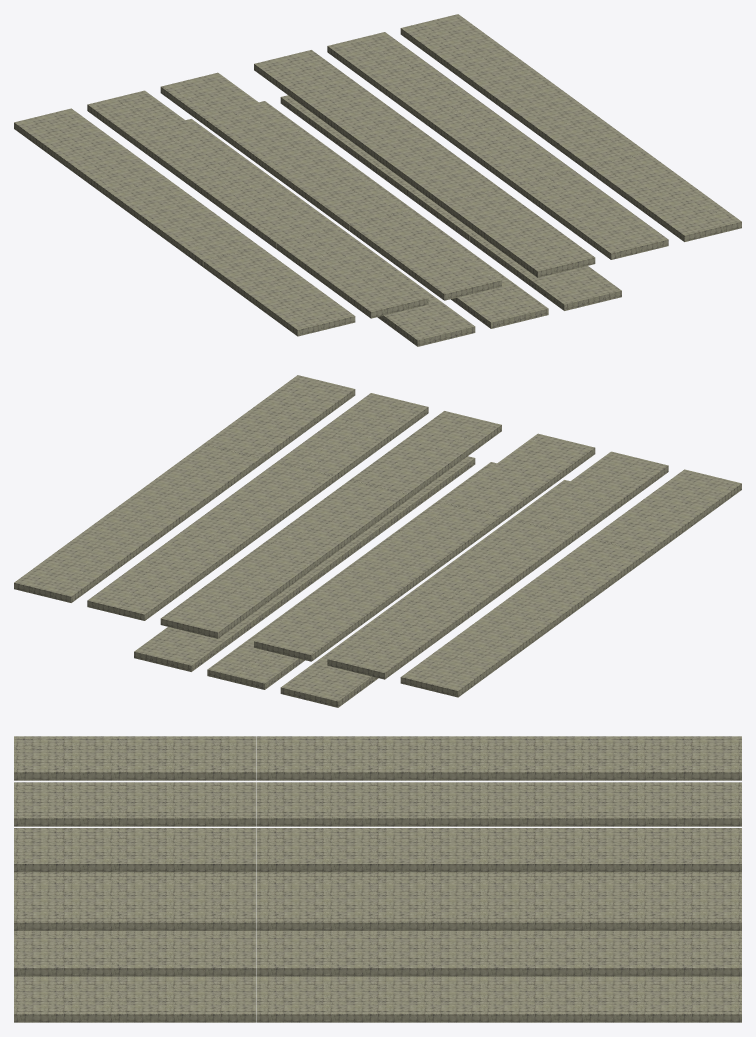
File: SM_Corridor_05_01.fbx
3 views of the same model, one above another, from view 1: azimuth 30°, elevation 25°; view 2: azimuth 150°, elevation 25°; view 3: azimuth 270°, elevation 25° (orthographic). The views are drawn at different scales.
Parts seen in each view (by area): view 1: SM_Corridor_05_01; view 2: SM_Corridor_05_01; view 3: SM_Corridor_05_01.
Boxes of the visible parts, x1,y1,x2,y2 form: SM_Corridor_05_01: [14, 14, 741, 346]; SM_Corridor_05_01: [14, 375, 741, 707]; SM_Corridor_05_01: [14, 736, 741, 1022].
Bounding box in the file's own units: 7972 × 792 × 8819.
